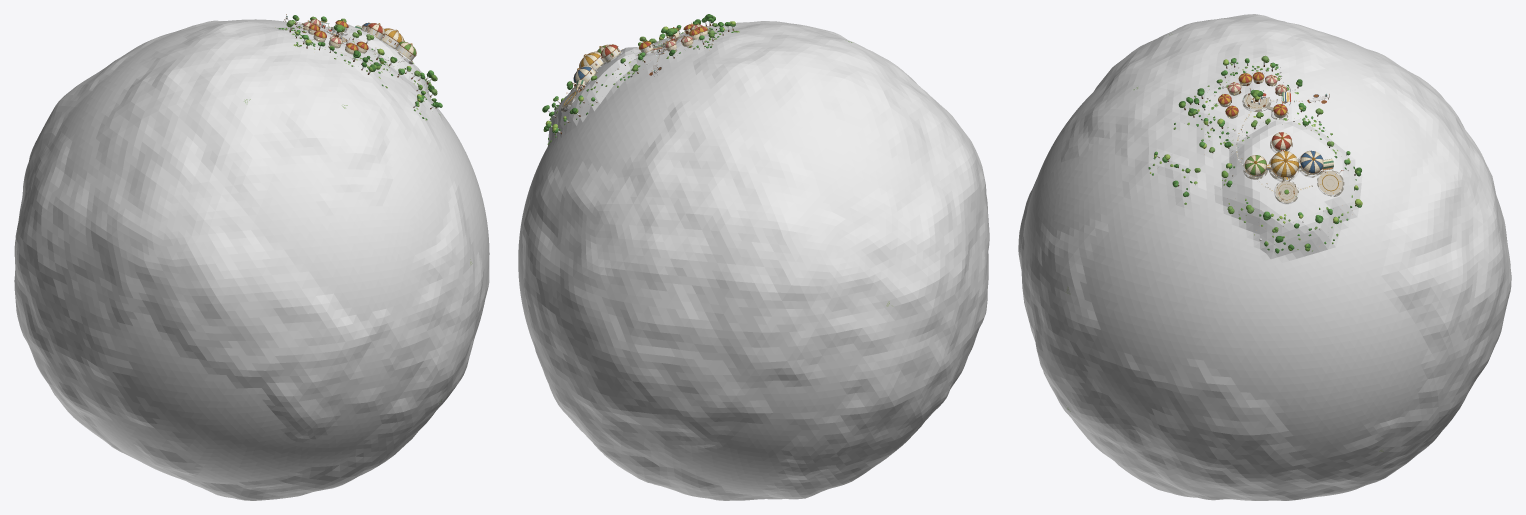
File: hogar.glb
The picture shows the model from 3 angles, left to right: view 1: azimuth 30°, elevation 25°; view 2: azimuth 150°, elevation 25°; view 3: azimuth 270°, elevation 25°; orthographic projection.
Parts seen in each view (by area): view 1: COL_hogar_Terreno, hogar_Lugares, COL_hogar_Lugares; view 2: COL_hogar_Terreno, hogar_Lugares, COL_hogar_Lugares; view 3: COL_hogar_Terreno, hogar_Lugares, COL_hogar_Lugares.
Part boxes in pixels (left/top/right/bottom): COL_hogar_Terreno: left=14, top=19, right=489, bottom=500; hogar_Lugares: left=275, top=14, right=442, bottom=120; COL_hogar_Lugares: left=283, top=16, right=433, bottom=108; COL_hogar_Terreno: left=518, top=21, right=989, bottom=500; hogar_Lugares: left=542, top=14, right=739, bottom=144; COL_hogar_Lugares: left=547, top=21, right=733, bottom=134; COL_hogar_Terreno: left=1018, top=14, right=1511, bottom=500; hogar_Lugares: left=1148, top=55, right=1362, bottom=253; COL_hogar_Lugares: left=1157, top=62, right=1356, bottom=239.
Size of the model in its own units: 241 by 245 by 246.
